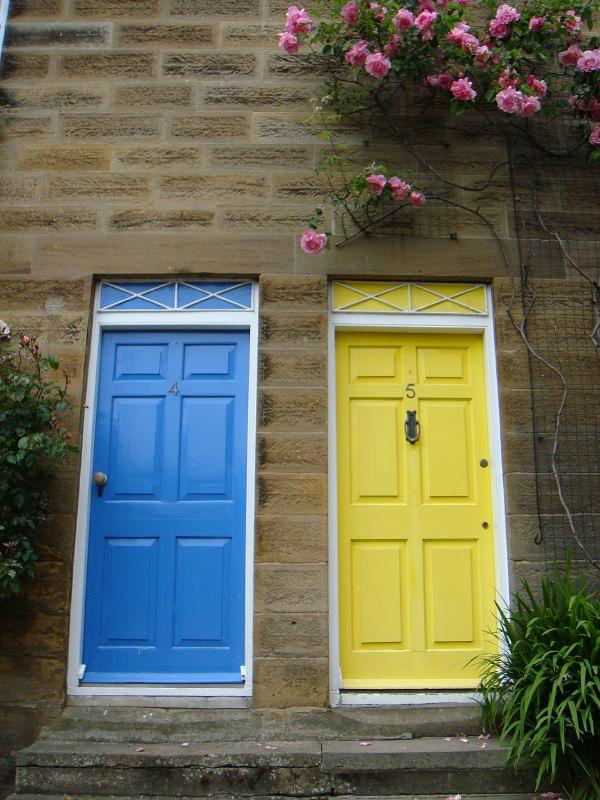door: (78, 323, 252, 687), (335, 326, 499, 691)
